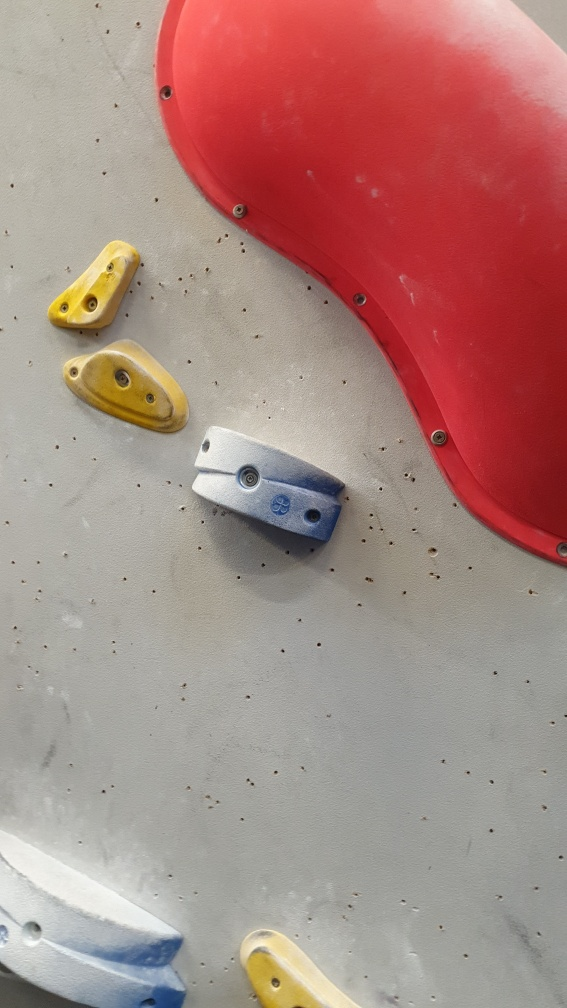Crimp: (73, 347, 189, 431), (238, 934, 353, 1007), (56, 245, 146, 330)
Pinch: (1, 820, 189, 1007), (189, 422, 350, 545)
